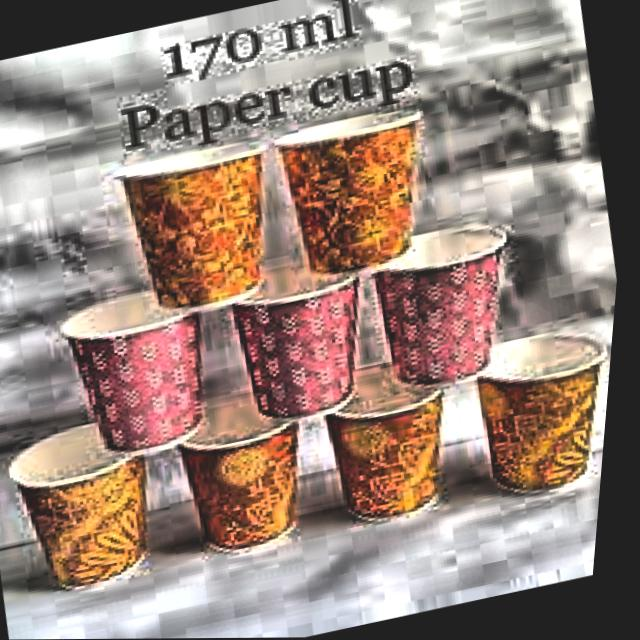Cup: (101, 125, 311, 327), (0, 405, 186, 602), (263, 88, 448, 285), (53, 279, 241, 466), (157, 370, 334, 568), (313, 336, 479, 528), (365, 213, 535, 398), (461, 313, 620, 510), (219, 255, 391, 432)
